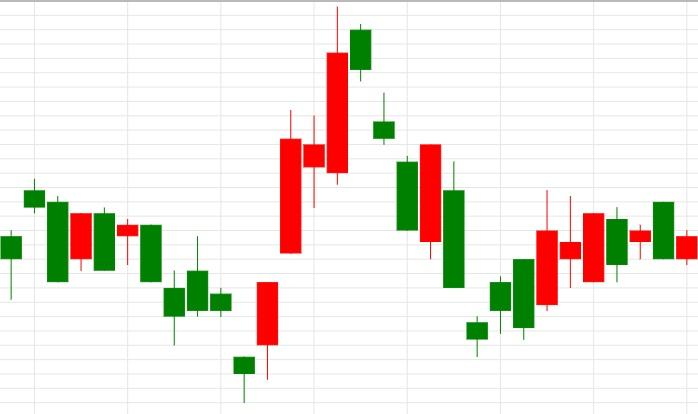bearish_engulfing_fall: (466, 190, 675, 356)
bullish_engulfing_rise: (349, 23, 442, 260)
hammer_rise: (23, 178, 255, 403)
three_black_crows_fall: (233, 6, 419, 403)
